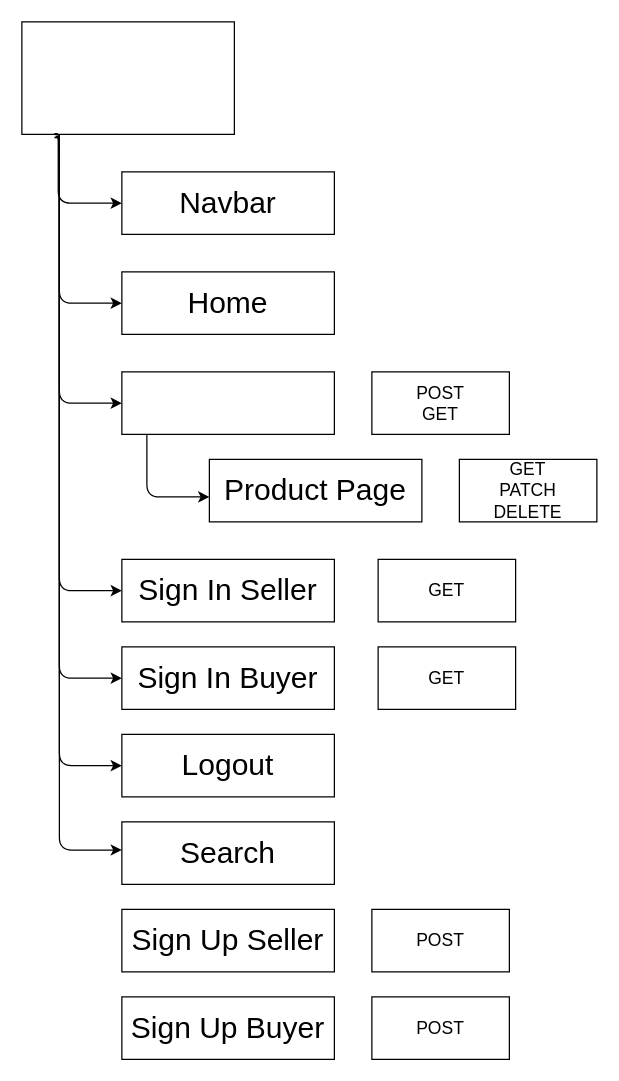
Image size: 619x1081. Some labels were removed from this diagram. Each missing label, with the centre of its shape:
"App" goes at point (127, 77).
"Product List" goes at point (227, 402).
